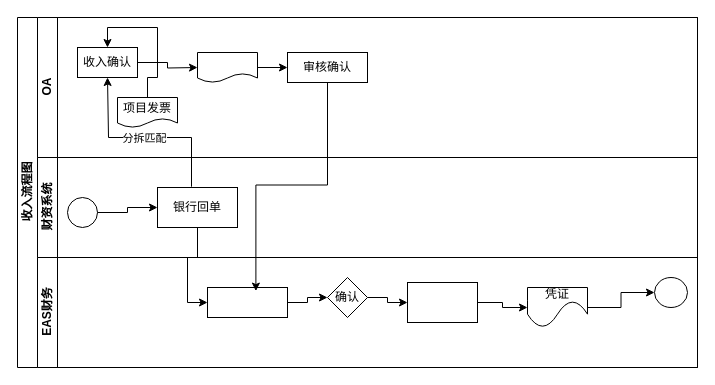
This 715x385 diagram has some shape labels left out. Here are the shapes that lost their labels. From the top down, the centre of each, then its label:
pixel 227 67: 确认单
pixel 82 212: 开始
pixel 247 302: 收款单
pixel 442 302: 生成凭证
pixel 671 292: 结束
